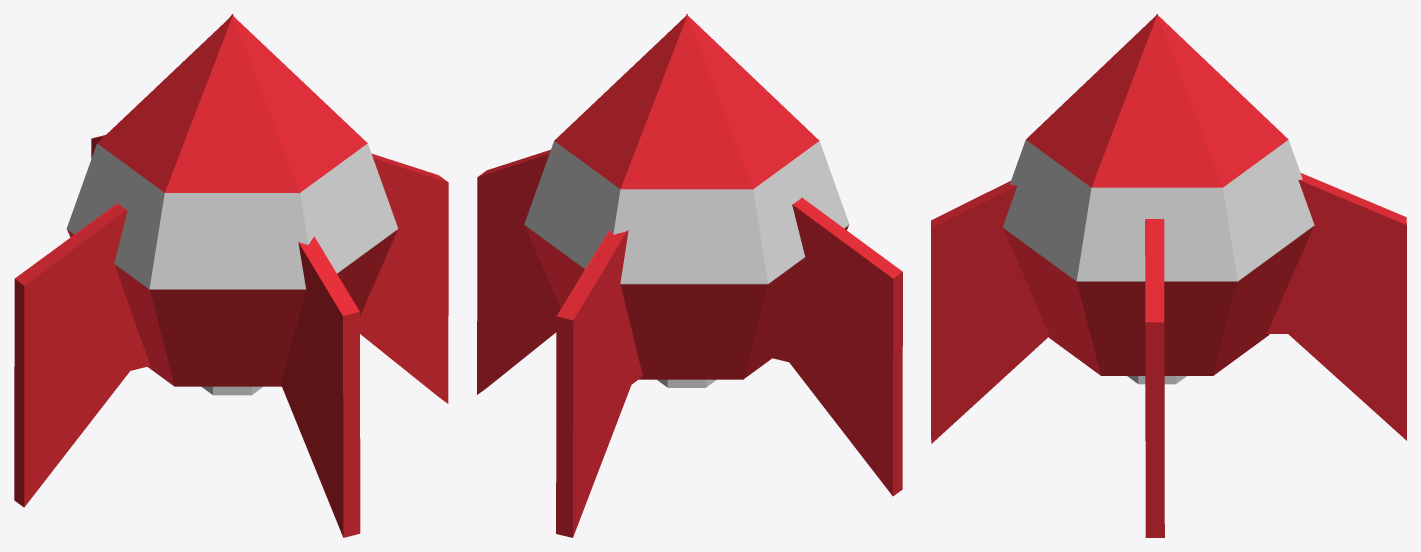
Rendered from Rocket01.glb.
3 renders of one model, left to right at view 1: azimuth 30°, elevation 25°; view 2: azimuth 150°, elevation 25°; view 3: azimuth 270°, elevation 25°, orthographic. The views are drawn at different scales.
Visible parts, largest first — view 1: Cylinder; view 2: Cylinder; view 3: Cylinder.
Boxes of the visible parts, x1,y1,x2,y2 form: Cylinder: [14, 14, 448, 537]; Cylinder: [477, 14, 902, 537]; Cylinder: [931, 14, 1406, 537].
Bounding box in the file's own units: 2 × 1.97 × 2.
